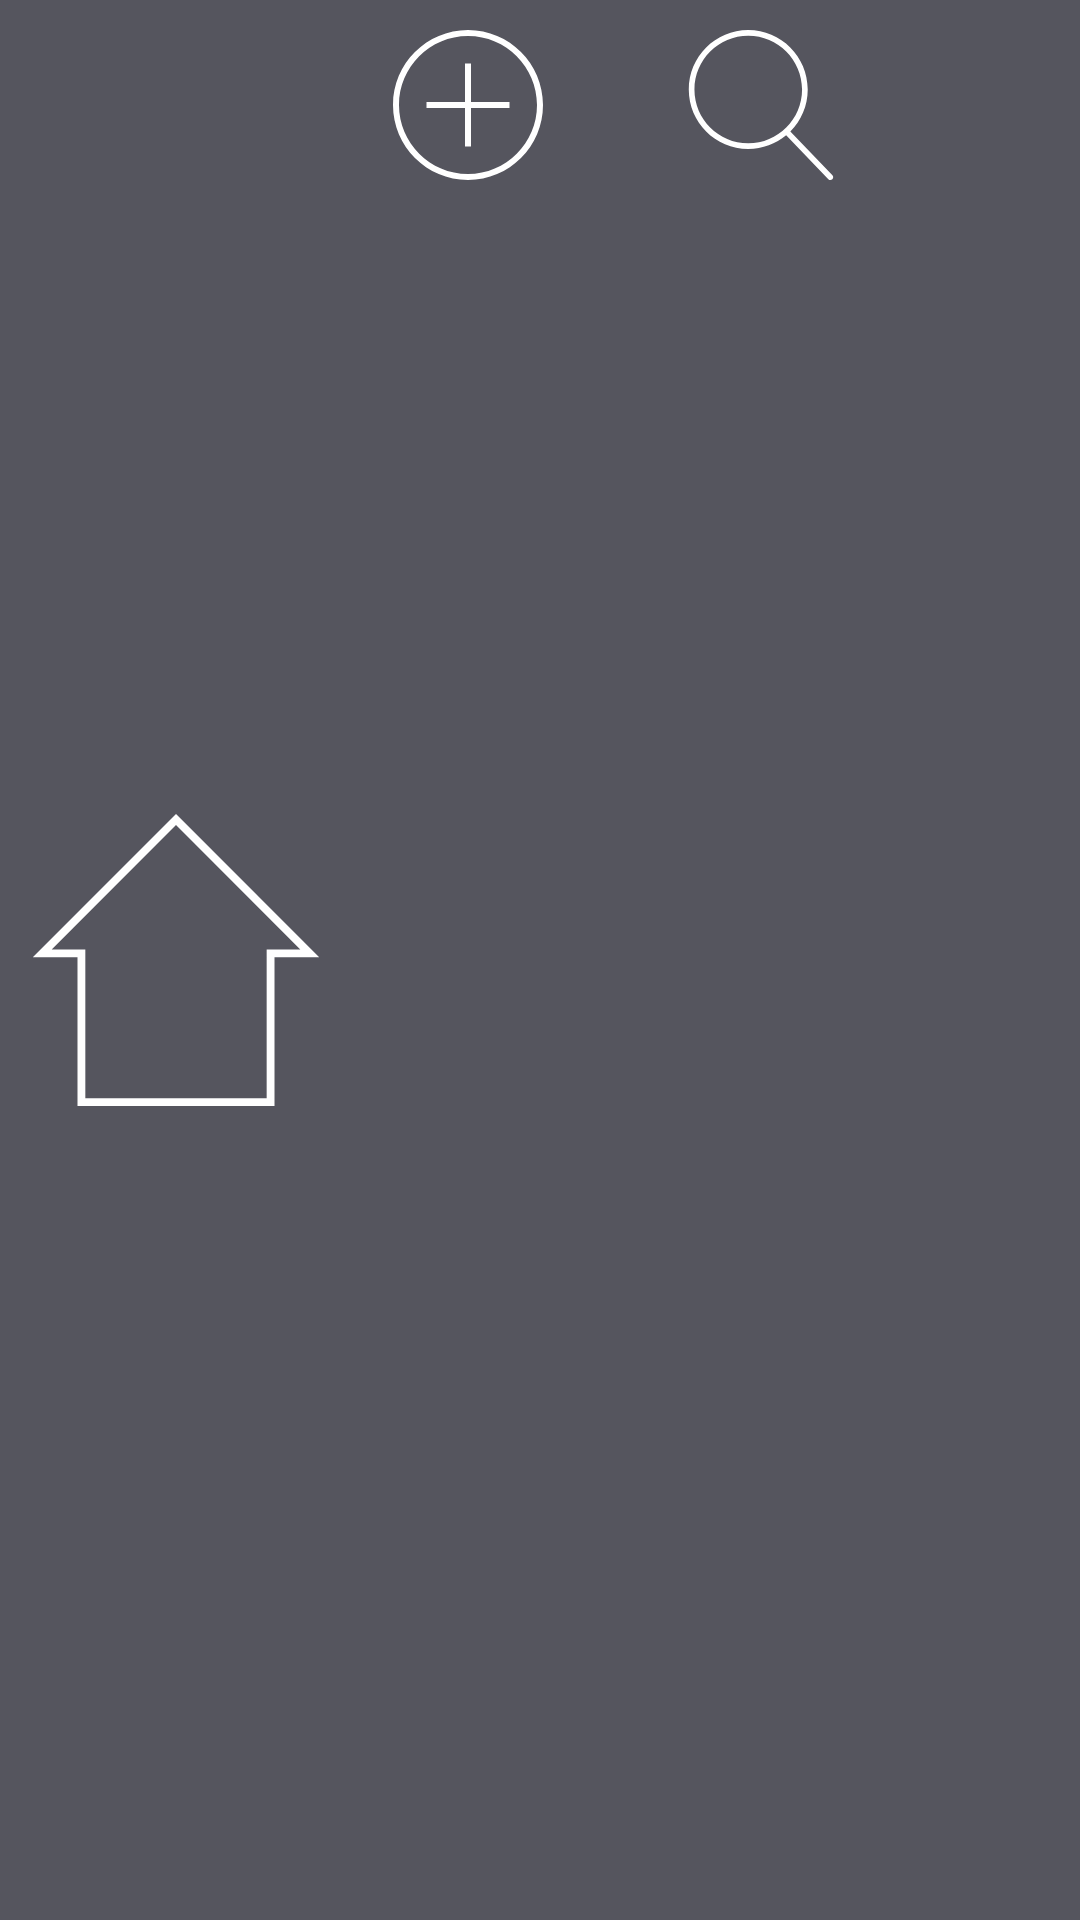

Where icons sit on this 1080px×1920px app screen, as (x1, y1, x2, y2):
add: (393, 30, 543, 180)
search: (688, 30, 833, 180)
